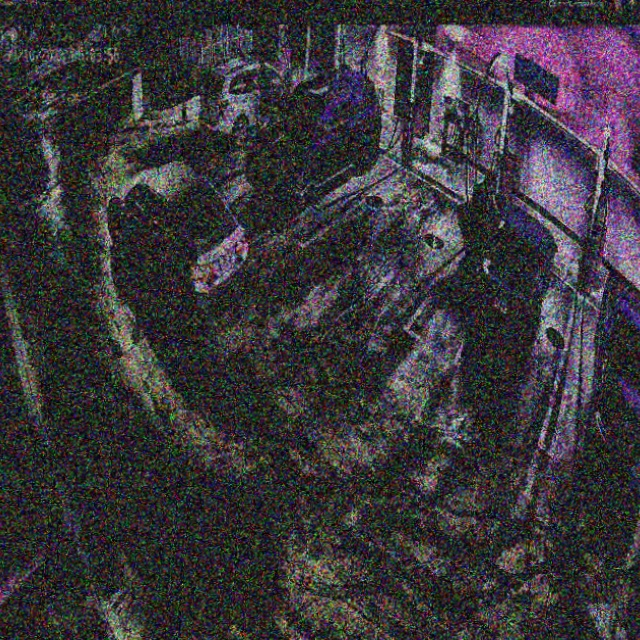Car: (104, 161, 251, 317), (242, 64, 380, 213), (462, 178, 558, 362)
